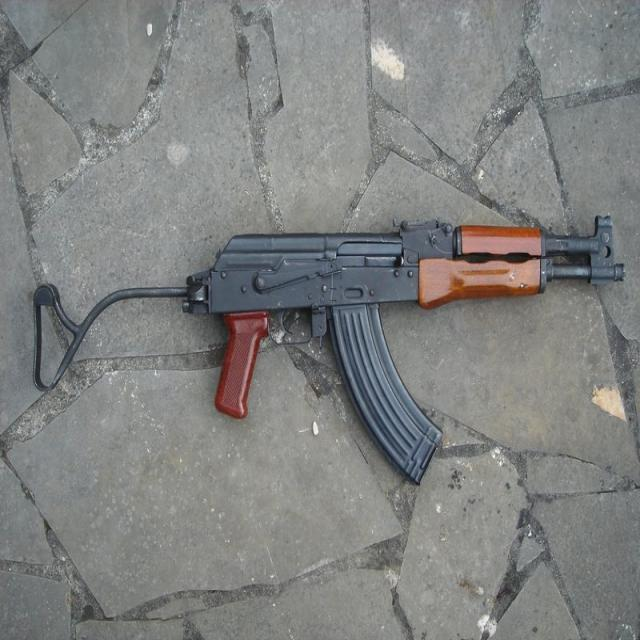gun: (29, 172, 635, 502)
